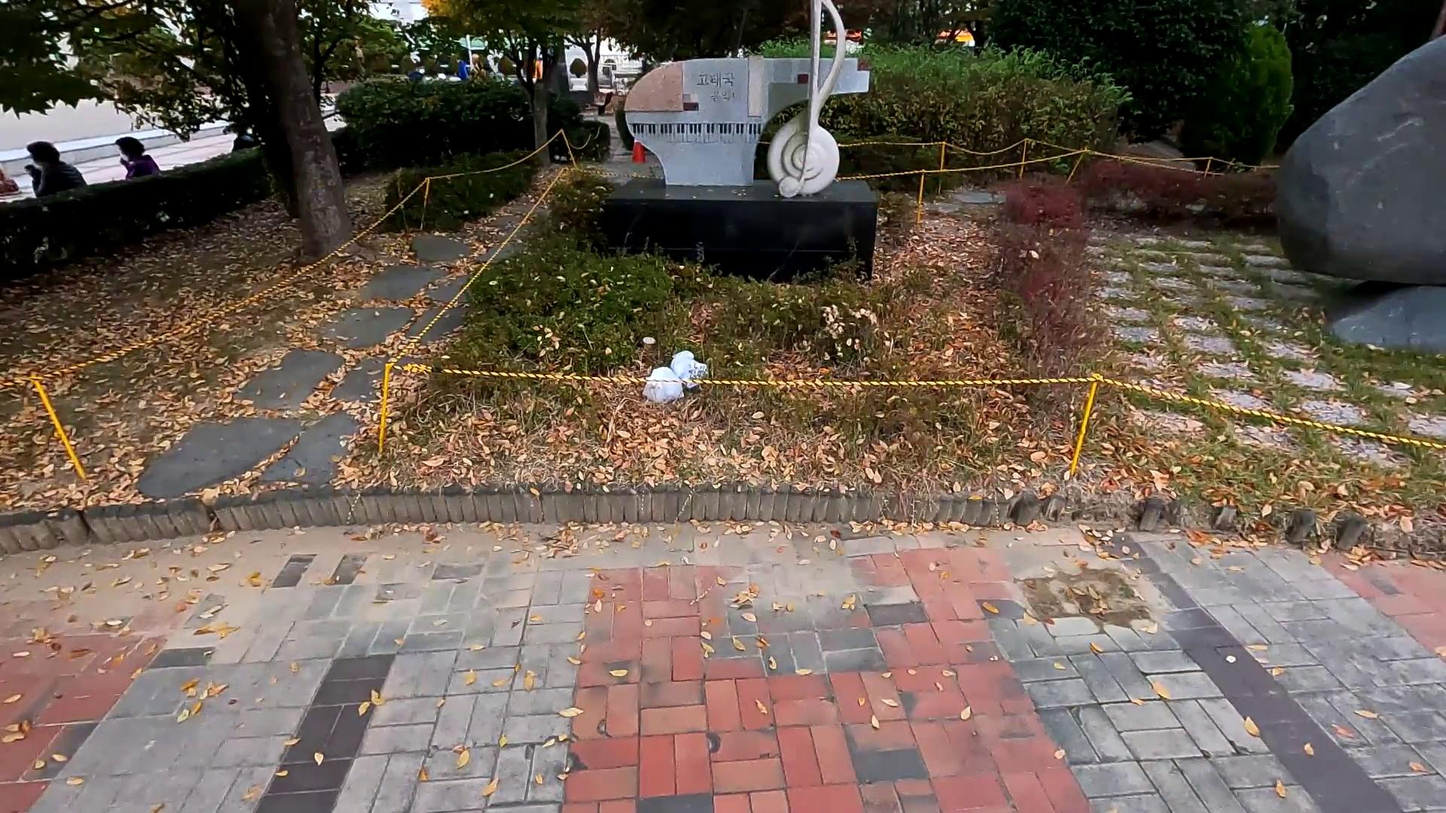trash: (638, 360, 687, 411), (673, 349, 716, 391)
